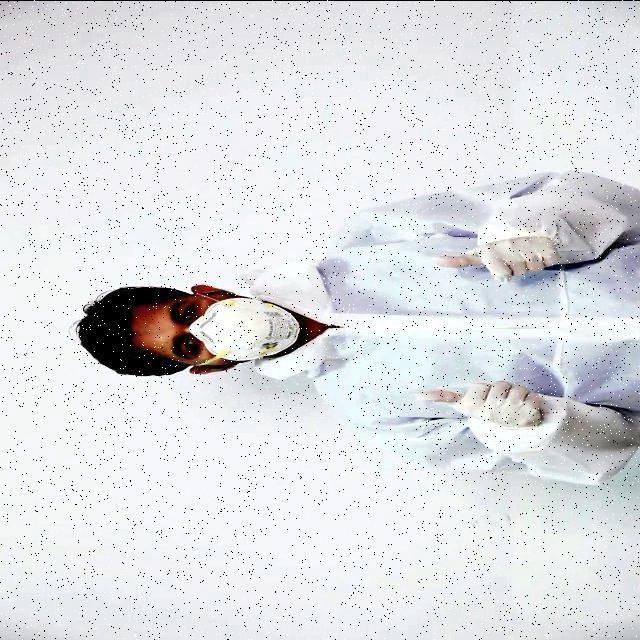apron: (415, 369, 585, 448), (436, 234, 566, 291)
